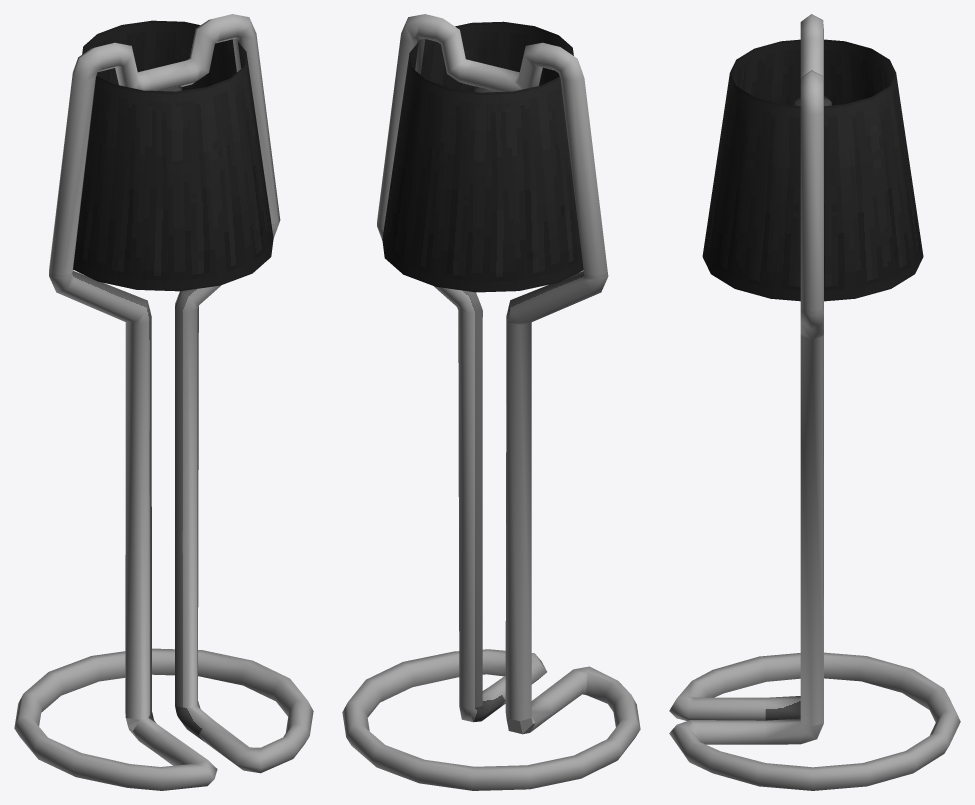
Rendered from rmk_pip_lamp.dae.
3 renders of one model, left to right at view 1: azimuth 30°, elevation 25°; view 2: azimuth 150°, elevation 25°; view 3: azimuth 270°, elevation 25°, orthographic. The views are drawn at different scales.
Parts seen in each view (by area): view 1: rmk_pip_lamp; view 2: rmk_pip_lamp; view 3: rmk_pip_lamp.
Part boxes in pixels (x1=…): rmk_pip_lamp: x1=14, y1=14, x2=313, y2=790; rmk_pip_lamp: x1=342, y1=14, x2=640, y2=790; rmk_pip_lamp: x1=669, y1=14, x2=960, y2=790.
Size of the model in its own units: 25.15 by 64.27 by 24.86.
2 materials, 2 textured.
